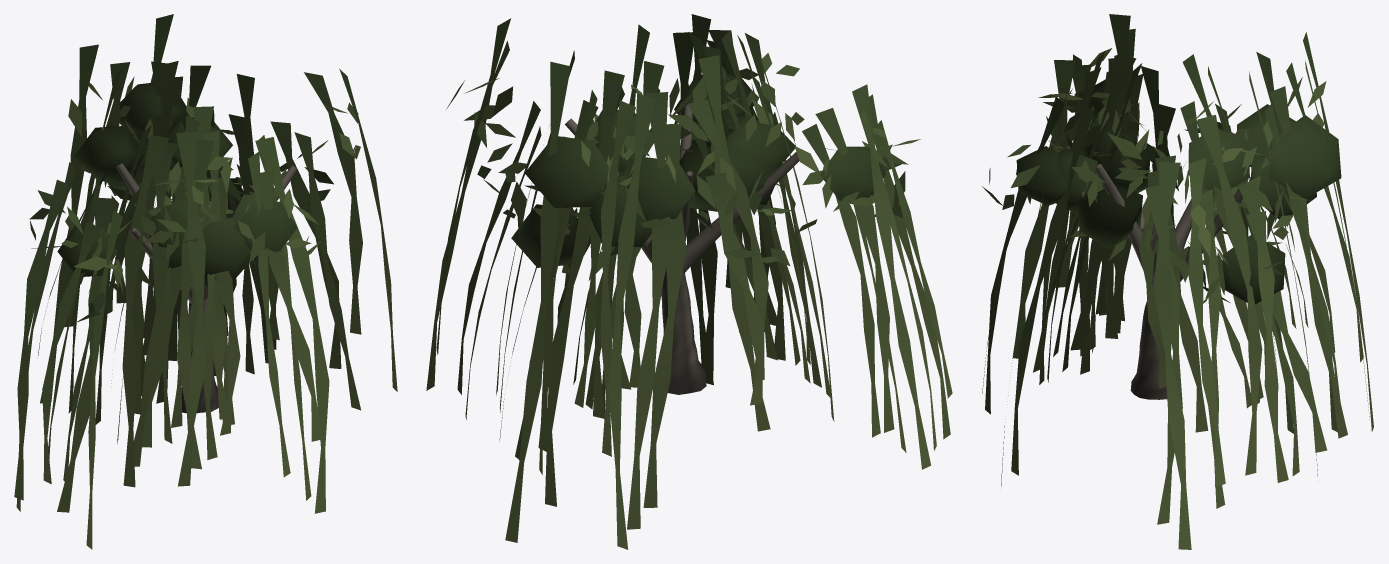
Rendered from tree_willow_mid.glb.
3 renders of one model, left to right at view 1: azimuth 30°, elevation 25°; view 2: azimuth 150°, elevation 25°; view 3: azimuth 270°, elevation 25°, orthographic. The views are drawn at different scales.
Visible parts, largest first — view 1: tree_willow_mid; view 2: tree_willow_mid; view 3: tree_willow_mid.
Part boxes in pixels (left/top/right/bottom): tree_willow_mid: left=14, top=14, right=397, bottom=549; tree_willow_mid: left=426, top=14, right=952, bottom=549; tree_willow_mid: left=982, top=14, right=1373, bottom=549.
Bounding box in the file's own units: 14.74 × 13.74 × 11.4.
